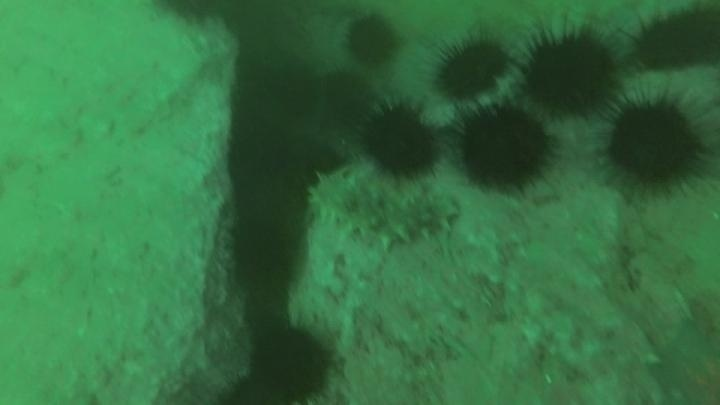echinus: (604, 97, 705, 193), (522, 30, 618, 117), (457, 106, 554, 192), (247, 321, 336, 403), (359, 102, 440, 180), (630, 8, 717, 74), (432, 34, 511, 102), (229, 216, 297, 290), (318, 68, 375, 126), (344, 13, 401, 68), (270, 64, 322, 121)
holothurian: (305, 169, 460, 254)
starfish: (652, 318, 720, 405)
